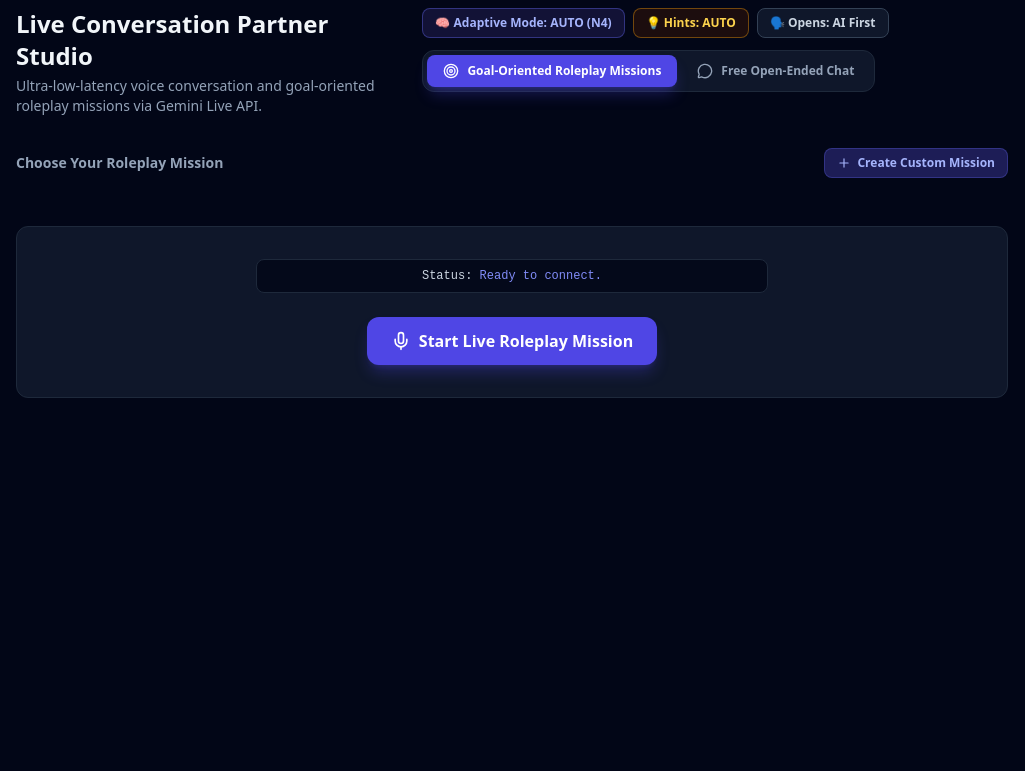
Test: LivePartnerView › renders suggestions mode chip and displays dynamic speaking suggestion pills during roleplay missions
# Switch to missions mode
What coordinates should you click on to do the following:
click the button "Goal-Oriented Roleplay Missions"
I would click on:
 (552, 71)
Its box is [427,55,677,87].
(page scrolled)
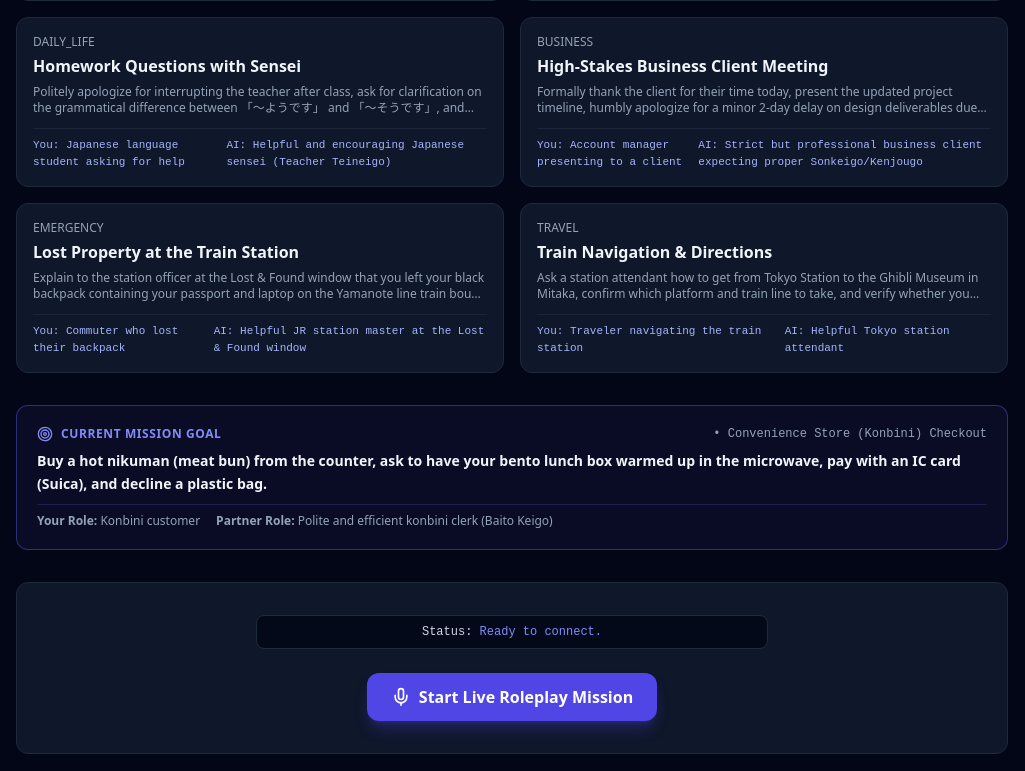
# Start live conversation
What coordinates should you click on to do the following:
click the button "Start Live Roleplay Mission"
I would click on:
 (512, 696)
Its box is [367,672,657,720].
(page scrolled)
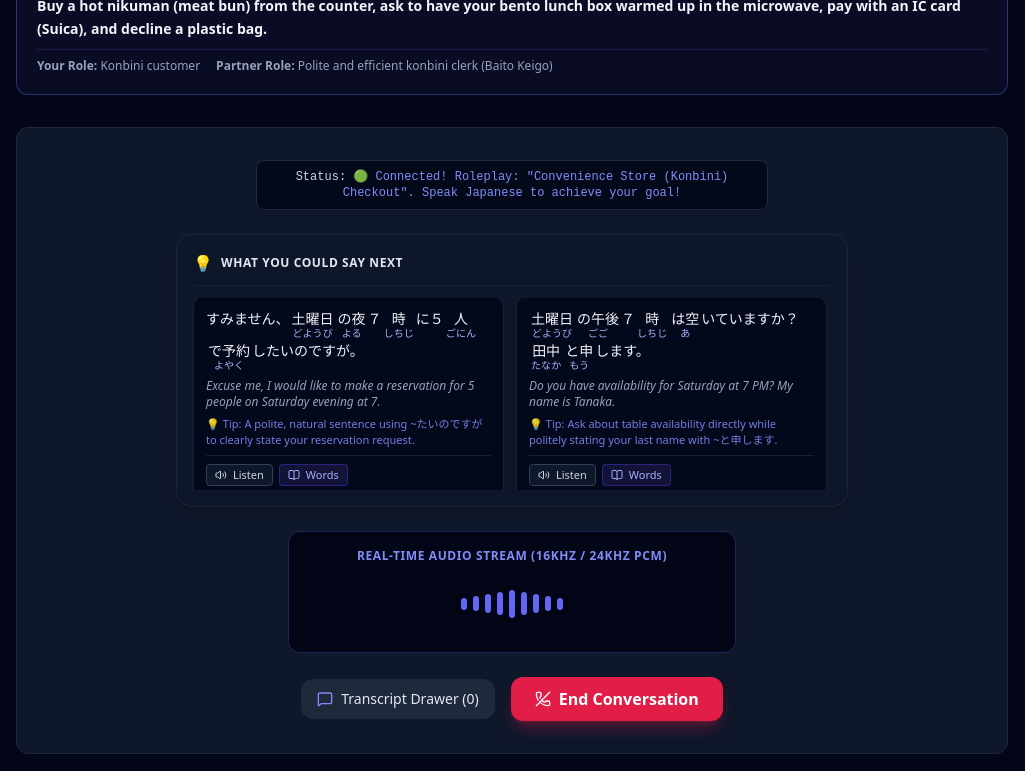
Now the text "What You Could Say Next" is shown, box [221,254,403,270]
Now the text "Excuse me, I would like to make a reservation" is shown, box [206,376,474,410]
